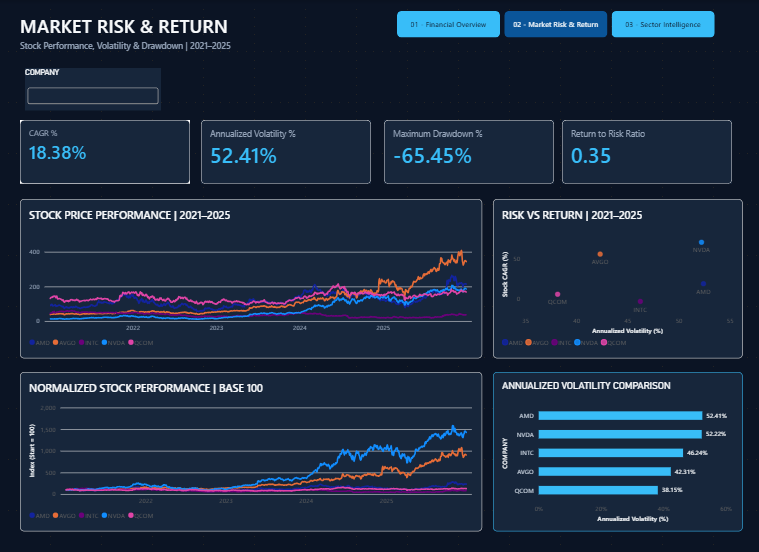

Layout of this report page (visuals, bound fields, positions):
{"tool":"powerbi","page":{"name":"02 - Market Risk & Return","canvas":[1440,1050],"ordinal":1},"visuals":[{"type":"textbox","title":"MARKET RISK & RETURN","box":[40,24,900,48],"z":0},{"type":"textbox","title":"Stock Performance, Volatility & Drawdown | 2021–2025","box":[40,75,900,28],"z":1000},{"type":"slicer","title":"COMPANY","fields":{"Values":["public companies.ticker"]},"box":[48,128,256,80],"z":2000},{"type":"cardVisual","fields":{"Data":["_Measures.CAGR %"]},"box":[40,225,320,120],"z":3000},{"type":"cardVisual","fields":{"Data":["_Measures.Return to Risk Ratio"]},"box":[1060,225,320,120],"z":4000},{"type":"cardVisual","fields":{"Data":["_Measures.Maximum Drawdown %"]},"box":[725,225,320,120],"z":5000},{"type":"cardVisual","fields":{"Data":["_Measures.Annualized Volatility %"]},"box":[380,225,320,120],"z":6000},{"type":"lineChart","title":"STOCK PRICE PERFORMANCE | 2021–2025","fields":{"Category":["public market_prices.price_date.Variation.Date Hierarchy.Year","public market_prices.price_date.Variation.Date Hierarchy.Quarter","public market_prices.price_date.Variation.Date Hierarchy.Month","public market_prices.price_date.Variation.Date Hierarchy.Day"],"Series":["public companies.ticker"],"Y":["Avg(public market_prices.adjusted_close)"]},"box":[40,375,870,300],"z":7000},{"type":"lineChart","title":"NORMALIZED STOCK PERFORMANCE | BASE 100","fields":{"Category":["public market_prices.price_date"],"Series":["public companies.ticker"],"Y":["_Measures.Normalized Stock Index"]},"box":[40,700,870,300],"z":8000},{"type":"scatterChart","title":"RISK VS RETURN | 2021–2025","fields":{"Category":["public companies.ticker"],"Series":["public companies.ticker"],"X":["_Measures.Annualized Volatility %"],"Y":["_Measures.CAGR %"]},"box":[930,375,470,300],"z":9000},{"type":"clusteredBarChart","title":"ANNUALIZED VOLATILITY COMPARISON","fields":{"Category":["public companies.ticker"],"Y":["_Measures.Annualized Volatility %"]},"box":[930,700,470,300],"z":10000},{"type":"pageNavigator","box":[750,20,600,50],"z":11000}]}

Visuals, with their boxes in screenshot pixels (x1, y1, x2, y2), scaled from the page's 1440x1050 canvas onto the 759x552 screenshot:
"MARKET RISK & RETURN" textbox: 21:13:495:38
"Stock Performance, Volatility & Drawdown | 2021–2025" textbox: 21:39:495:54
"COMPANY" slicer: 25:67:160:109
cardVisual - _Measures.CAGR %: 21:118:190:181
cardVisual - _Measures.Return to Risk Ratio: 559:118:727:181
cardVisual - _Measures.Maximum Drawdown %: 382:118:551:181
cardVisual - _Measures.Annualized Volatility %: 200:118:369:181
"STOCK PRICE PERFORMANCE | 2021–2025" lineChart: 21:197:480:355
"NORMALIZED STOCK PERFORMANCE | BASE 100" lineChart: 21:368:480:526
"RISK VS RETURN | 2021–2025" scatterChart: 490:197:738:355
"ANNUALIZED VOLATILITY COMPARISON" clusteredBarChart: 490:368:738:526
pageNavigator: 395:11:712:37
